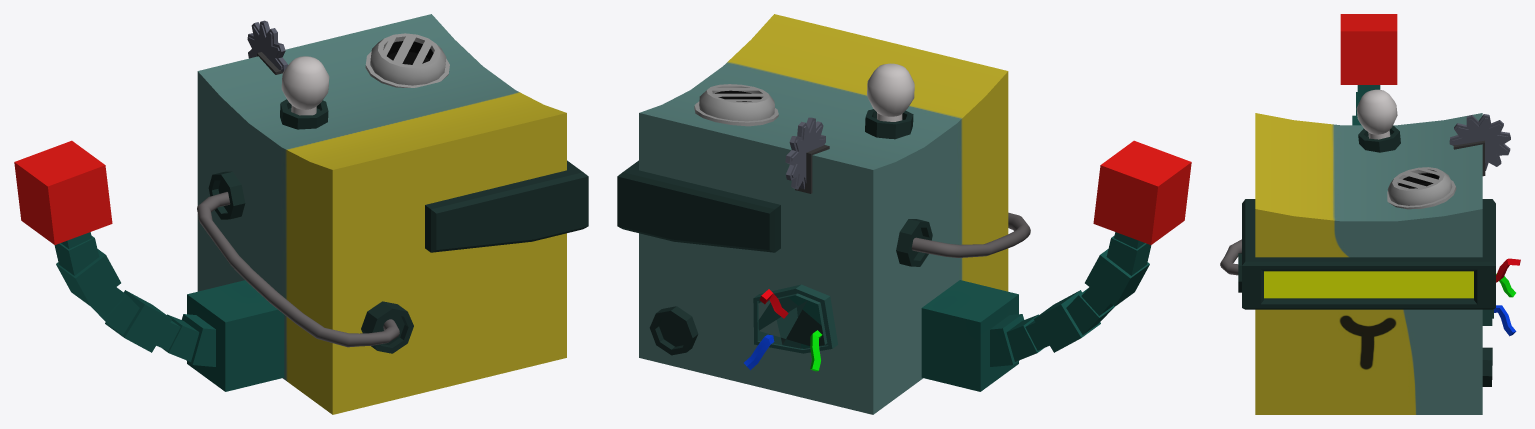
The model's file is leg3.fbx.
The picture shows the model from 3 angles, left to right: view 1: azimuth 30°, elevation 25°; view 2: azimuth 150°, elevation 25°; view 3: azimuth 270°, elevation 25°; orthographic projection. The views are drawn at different scales.
Visible parts, largest first — view 1: Cube.005, Cube.001, Cylinder.002, Cylinder.001, Cylinder; view 2: Cube.005, Cylinder.002, Cylinder.001, Cube.001, Cylinder; view 3: Cube.005, Cylinder.002, Cylinder, Cylinder.001, Cube.001.
Part boxes in pixels (x1,y1,x2,y2): Cube.005: (14, 14, 588, 414); Cube.001: (197, 192, 399, 347); Cylinder.002: (365, 33, 449, 87); Cylinder.001: (281, 56, 329, 115); Cylinder: (247, 20, 287, 71); Cube.005: (617, 14, 1191, 414); Cylinder.002: (694, 84, 778, 126); Cylinder.001: (867, 63, 914, 121); Cube.001: (911, 212, 1030, 257); Cylinder: (785, 117, 825, 189); Cube.005: (1238, 14, 1520, 414); Cylinder.002: (1387, 167, 1456, 209); Cylinder: (1449, 114, 1510, 170); Cylinder.001: (1356, 89, 1397, 139); Cube.001: (1220, 239, 1241, 275).
Size of the model in its own units: 412 by 238 by 265.
